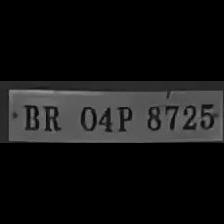0: (74, 102, 99, 134)
2: (178, 102, 198, 132)
4: (96, 103, 114, 135)
5: (196, 101, 216, 131)
7: (162, 102, 180, 132)
8: (142, 102, 164, 132)
B: (19, 101, 41, 133)
P: (112, 102, 134, 134)
R: (38, 102, 64, 134)
